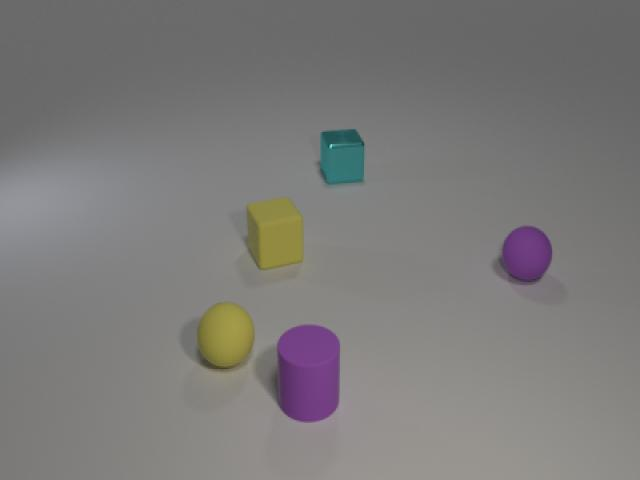cylinder: (270, 320, 348, 426)
round ball: (191, 294, 259, 374), (492, 217, 560, 292)
